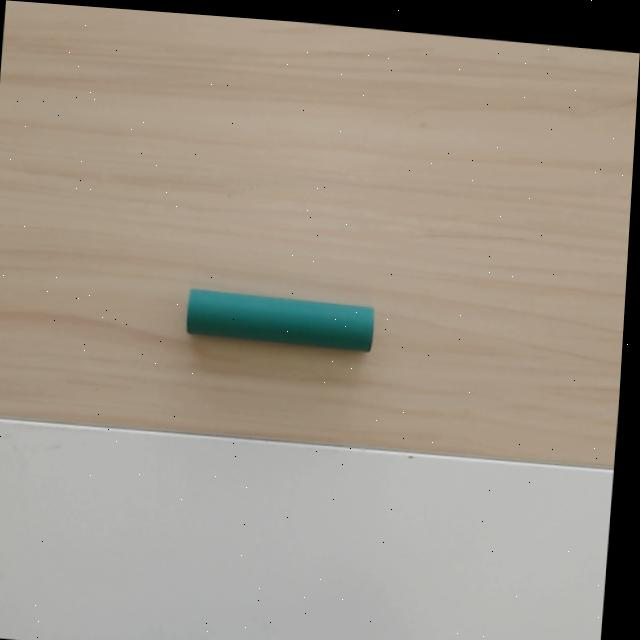Silinder-Hijau-10025: (185, 289, 375, 352)
